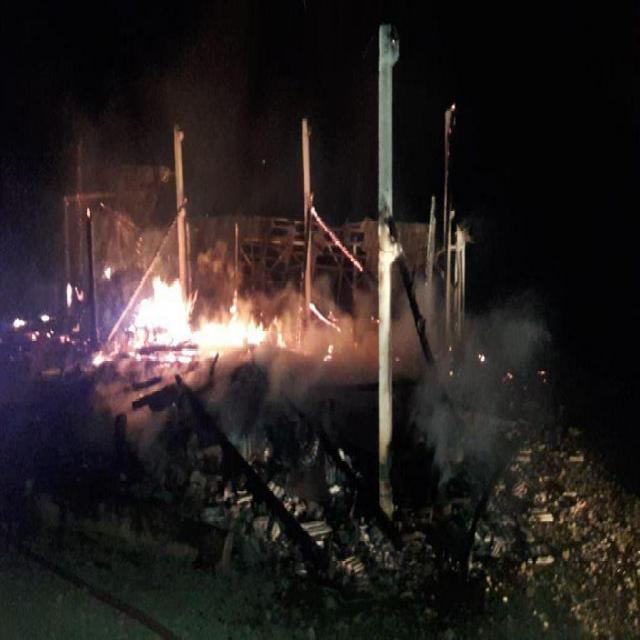Fire: (130, 270, 284, 361), (90, 343, 114, 367)
